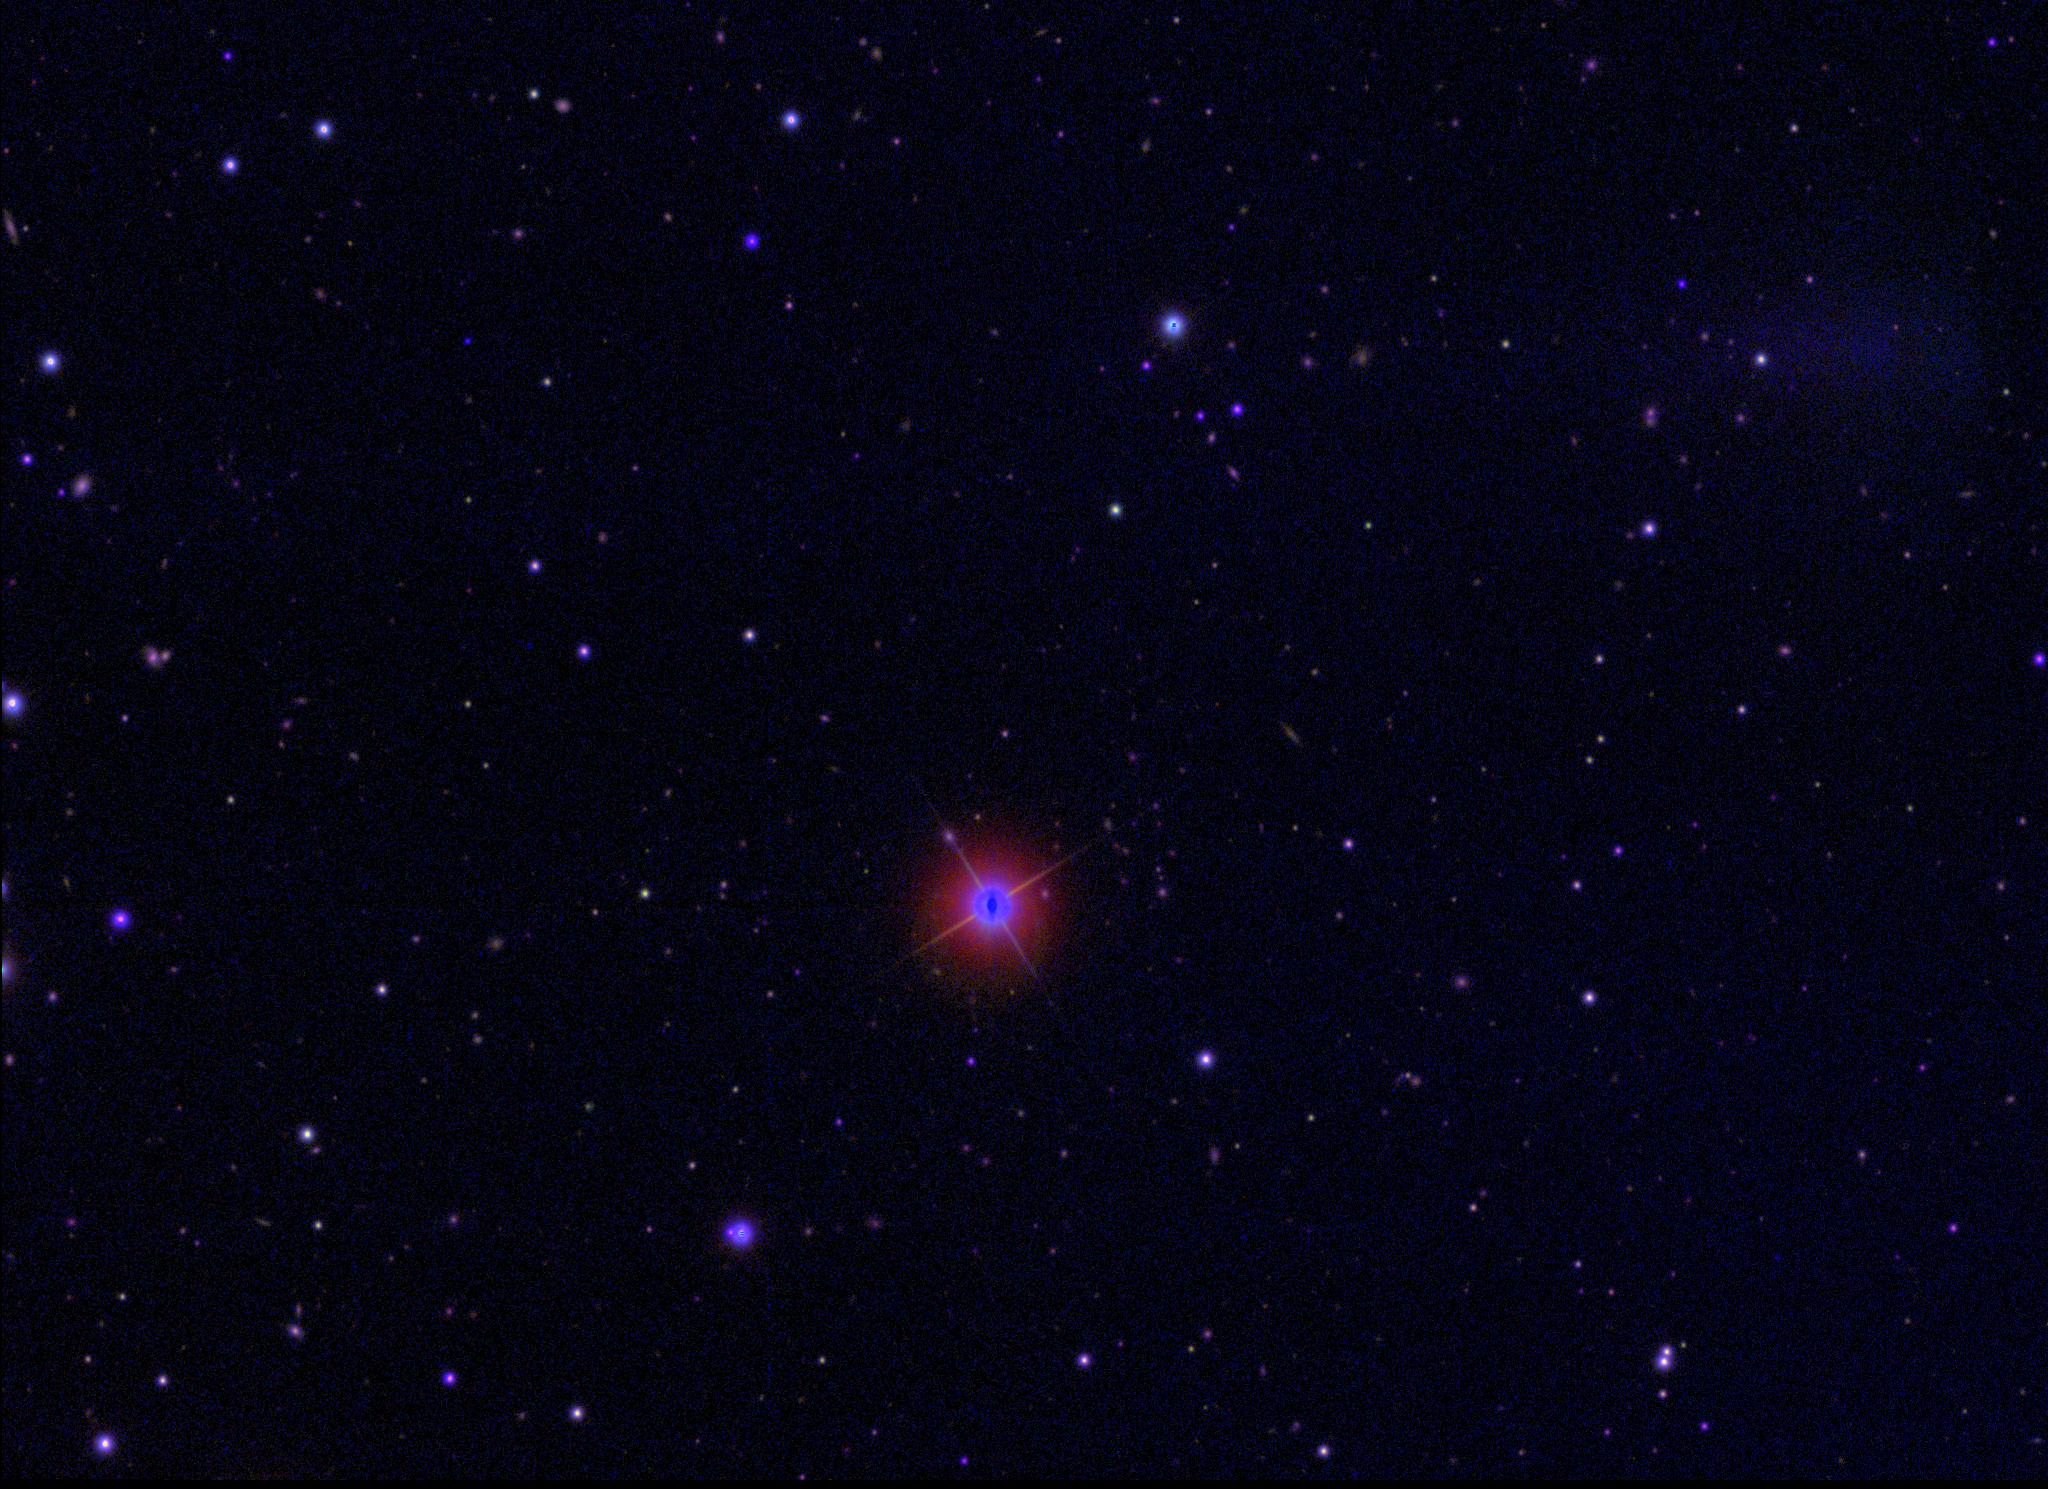L: (461, 332, 475, 347)
